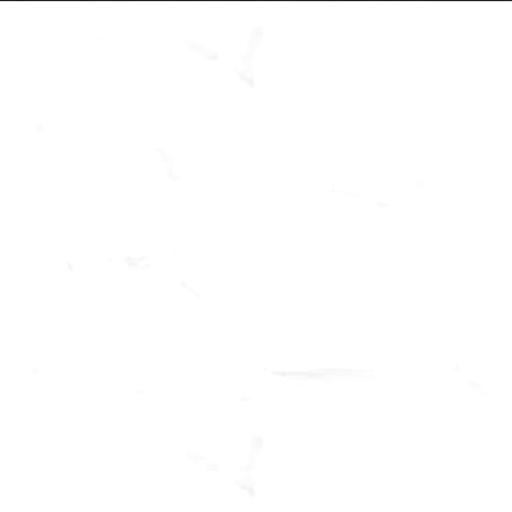paper: (2, 0, 510, 511)
